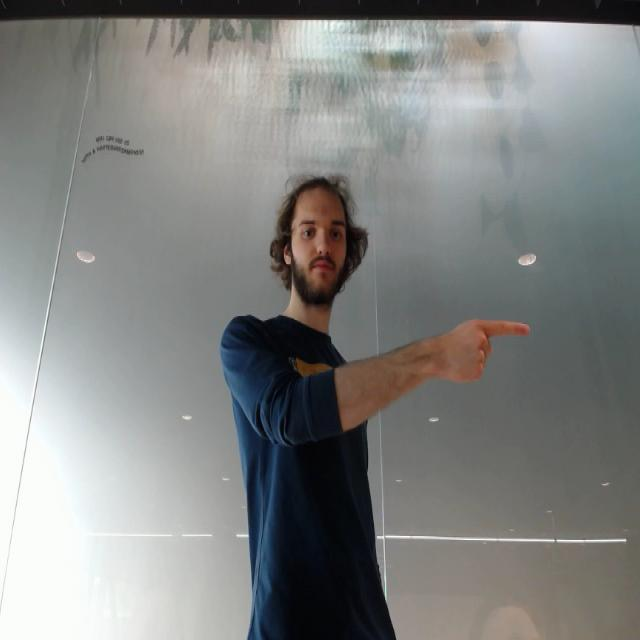right: (435, 311, 536, 388)
